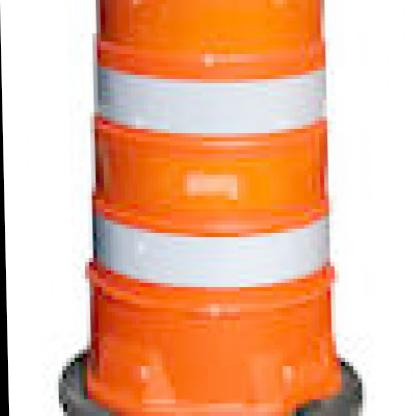obstacle: (92, 4, 349, 416)
